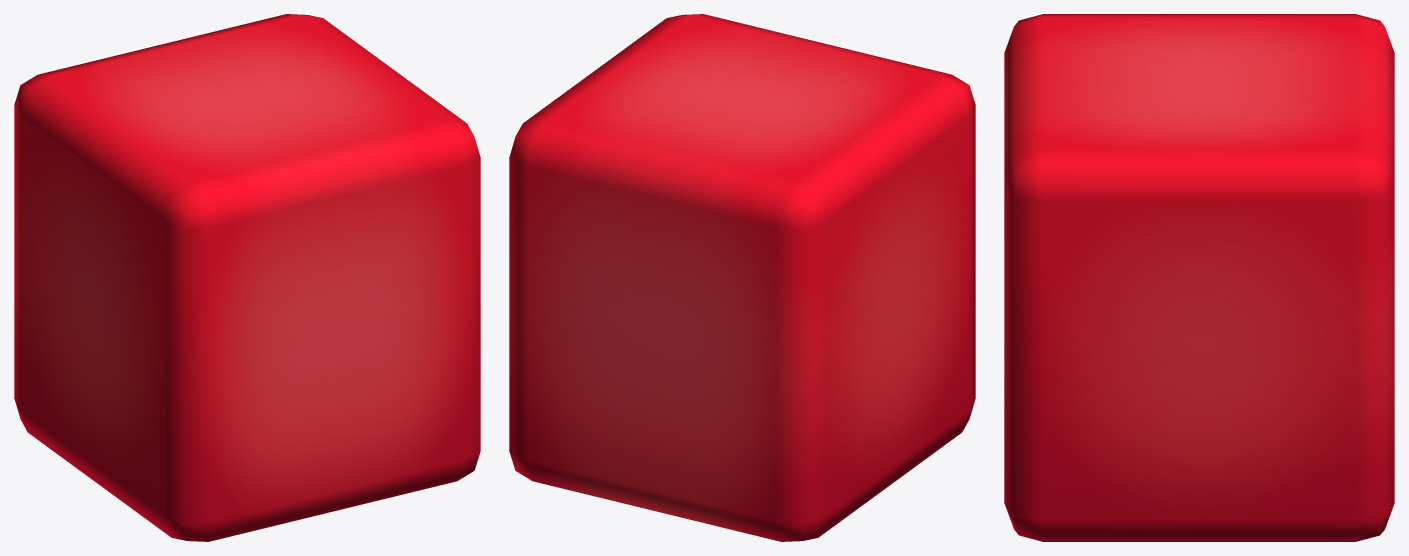
File: FX_box_red.fbx
3 renders of one model, left to right at view 1: azimuth 30°, elevation 25°; view 2: azimuth 150°, elevation 25°; view 3: azimuth 270°, elevation 25°, orthographic. The views are drawn at different scales.
Parts seen in each view (by area): view 1: FX_box_red; view 2: FX_box_red; view 3: FX_box_red.
Boxes of the visible parts, x1,y1,x2,y2 form: FX_box_red: (14,14,480,541); FX_box_red: (509,14,975,541); FX_box_red: (1004,14,1394,541).
Size of the model in its own units: 99.91 by 110 by 100.
Materials: 1 (1 with a texture image).
